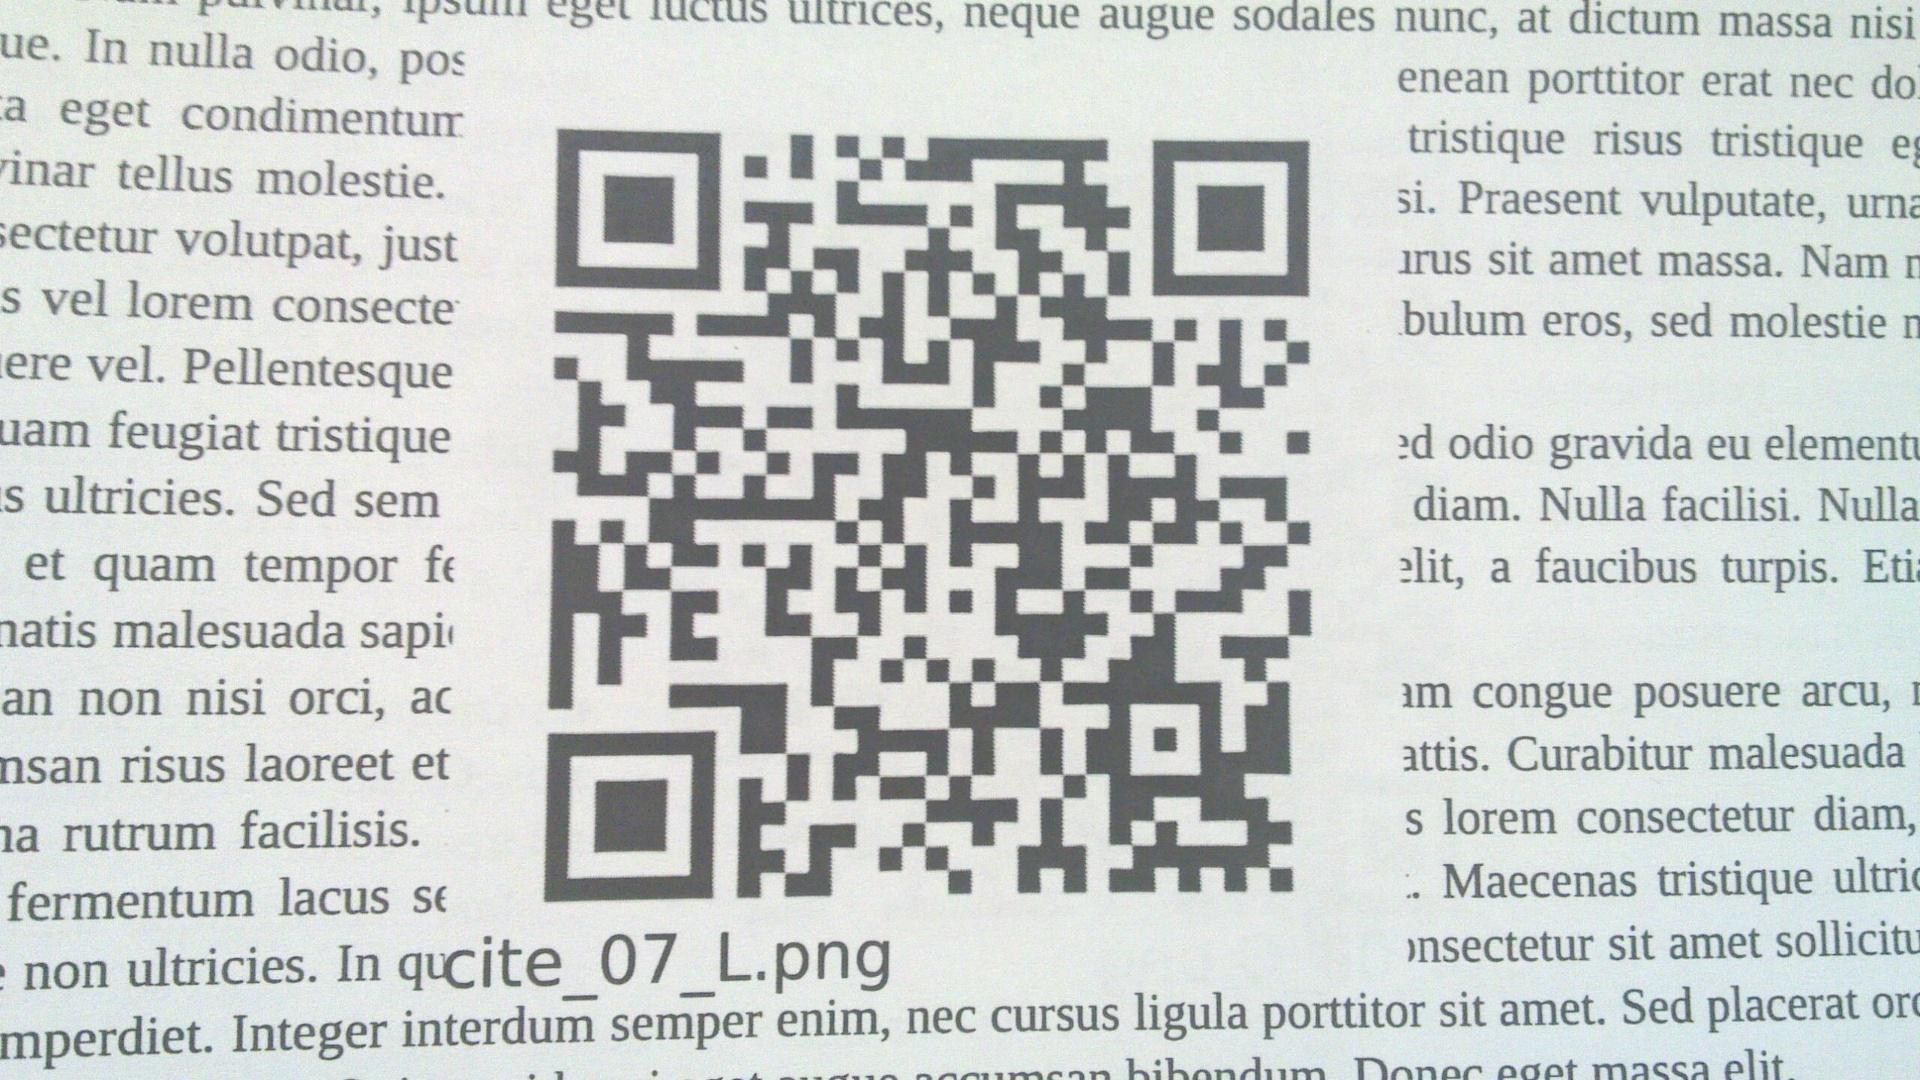Finder pattern: (541, 727, 723, 906), (1145, 132, 1319, 305), (553, 123, 725, 295)
